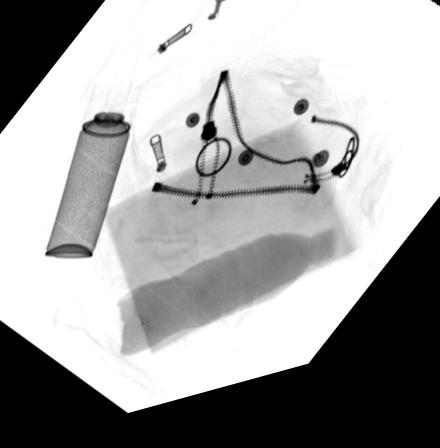Sprayer: (42, 85, 144, 264)
